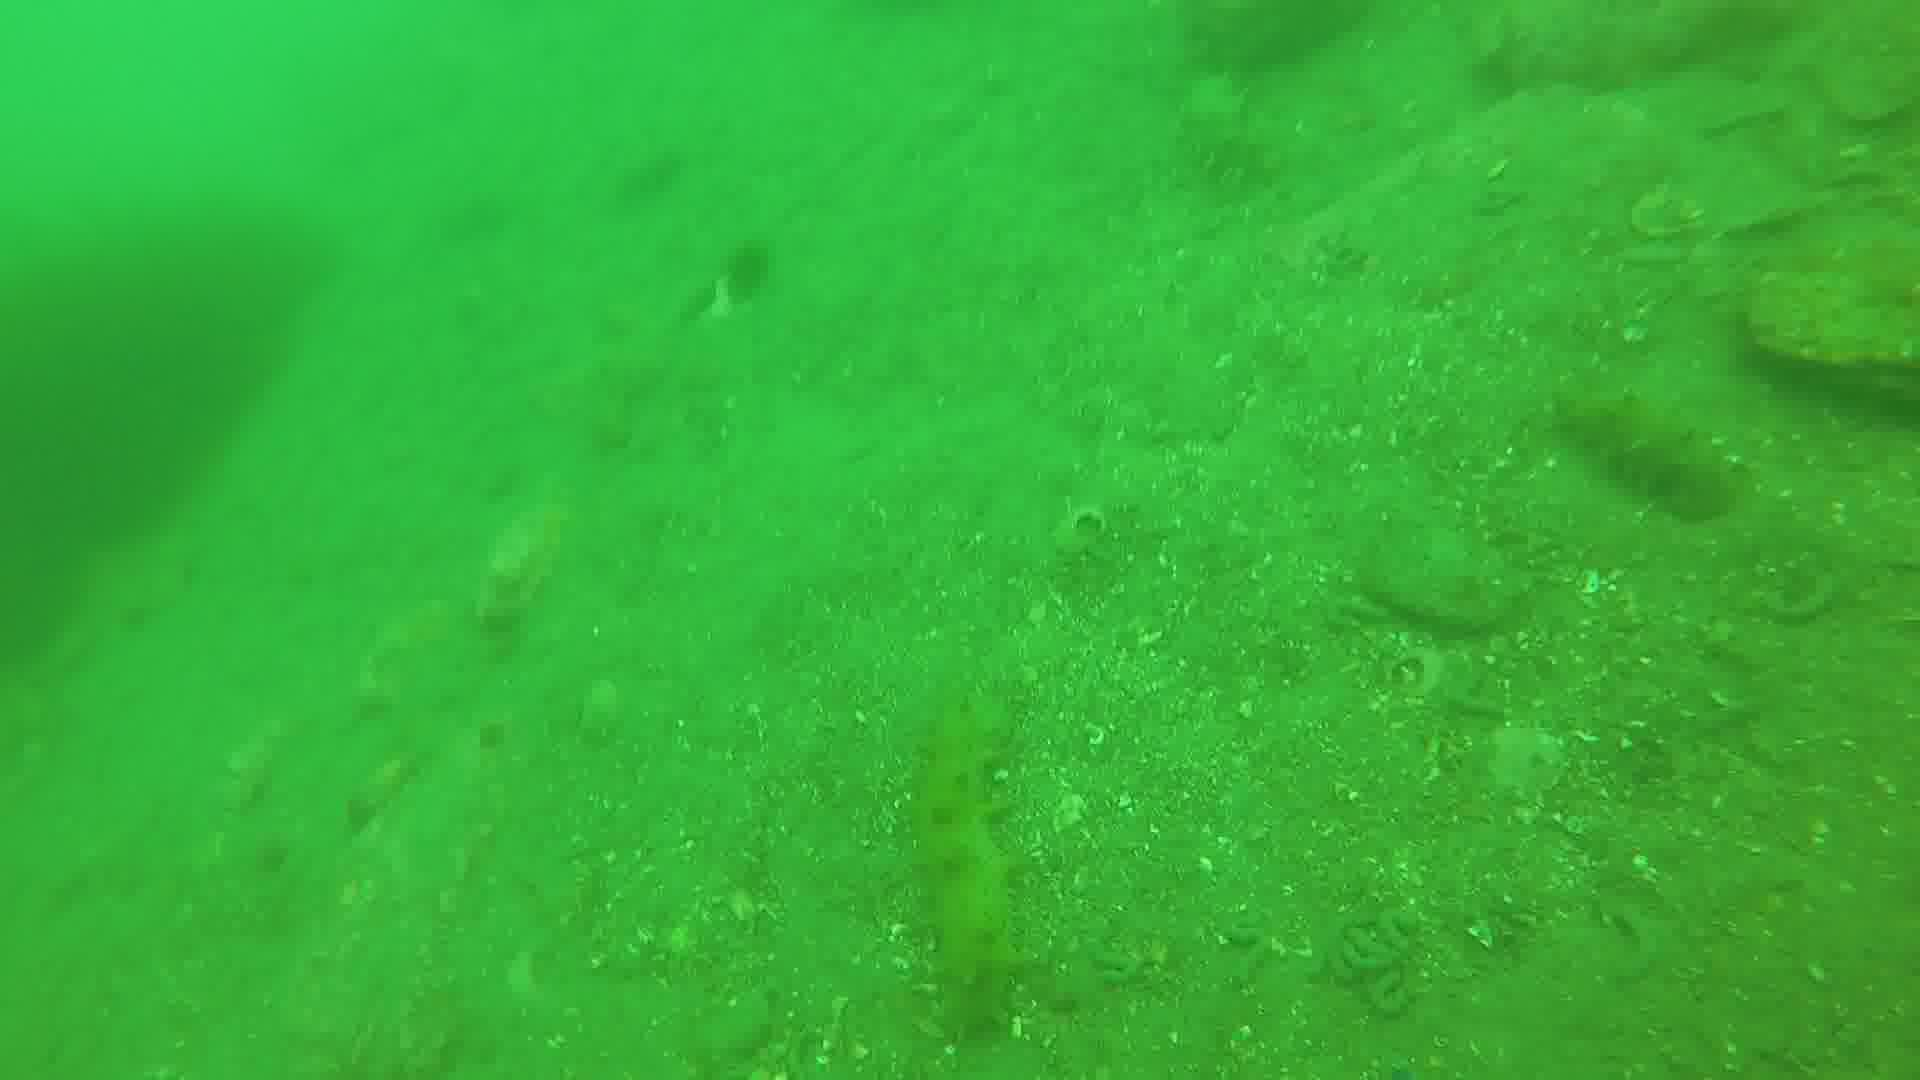echinus: (708, 237, 775, 309)
holothurian: (903, 707, 1030, 1033), (1561, 380, 1746, 527)
